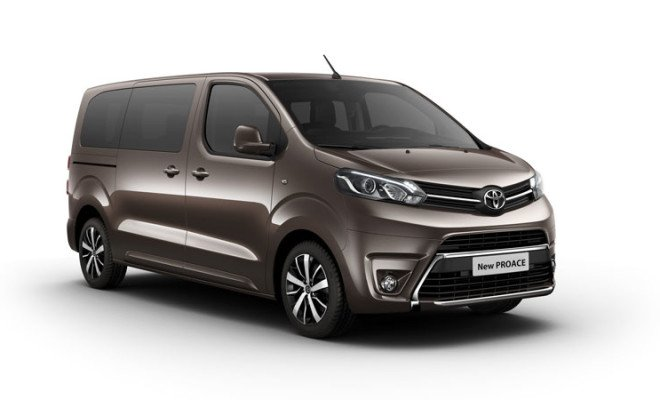van: (65, 66, 558, 339)
